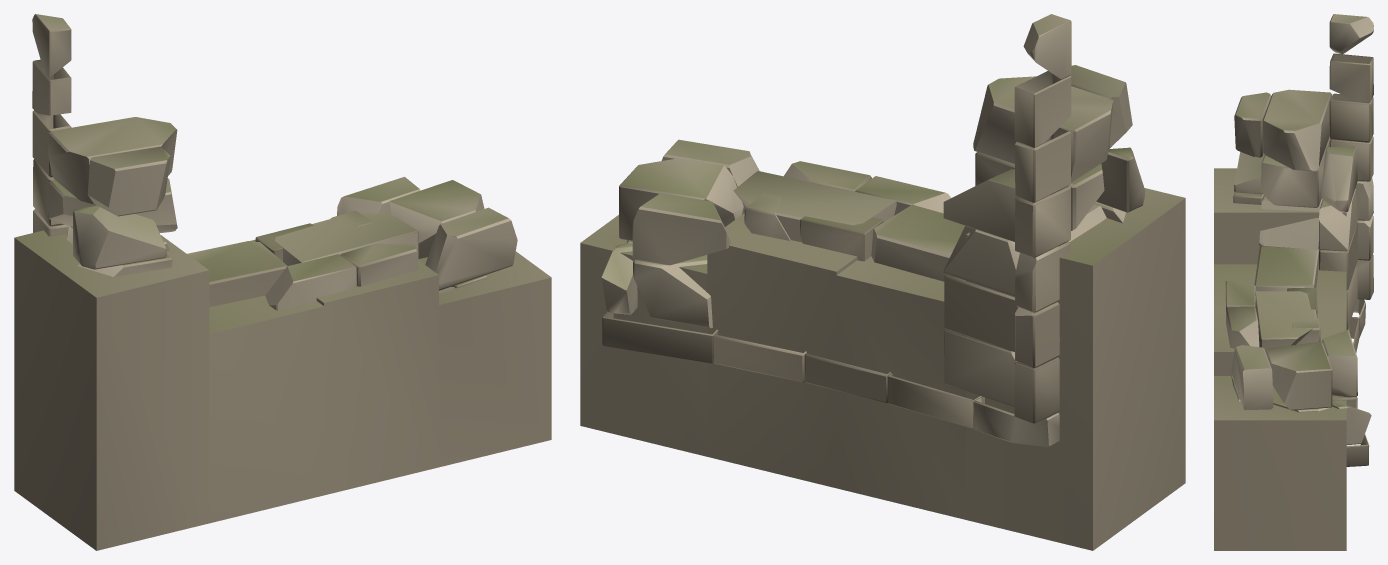
The model's file is dome_drum_bm1.glb.
3 views of the same model, side by side, from view 1: azimuth 30°, elevation 25°; view 2: azimuth 150°, elevation 25°; view 3: azimuth 270°, elevation 25° (orthographic). The views are drawn at different scales.
Parts seen in each view (by area): view 1: dome_drum_bm1_far, dome_drum_bm1; view 2: dome_drum_bm1_far, dome_drum_bm1; view 3: dome_drum_bm1, dome_drum_bm1_far.
Boxes of the visible parts, box(x1,y1,x2,y2) form: dome_drum_bm1_far: box(14, 230, 551, 550); dome_drum_bm1: box(32, 14, 517, 310); dome_drum_bm1_far: box(580, 188, 1185, 550); dome_drum_bm1: box(601, 14, 1145, 447); dome_drum_bm1: box(1225, 14, 1373, 466); dome_drum_bm1_far: box(1214, 168, 1346, 550).
Size of the model in its own units: 21.4 by 20.6 by 8.09.
